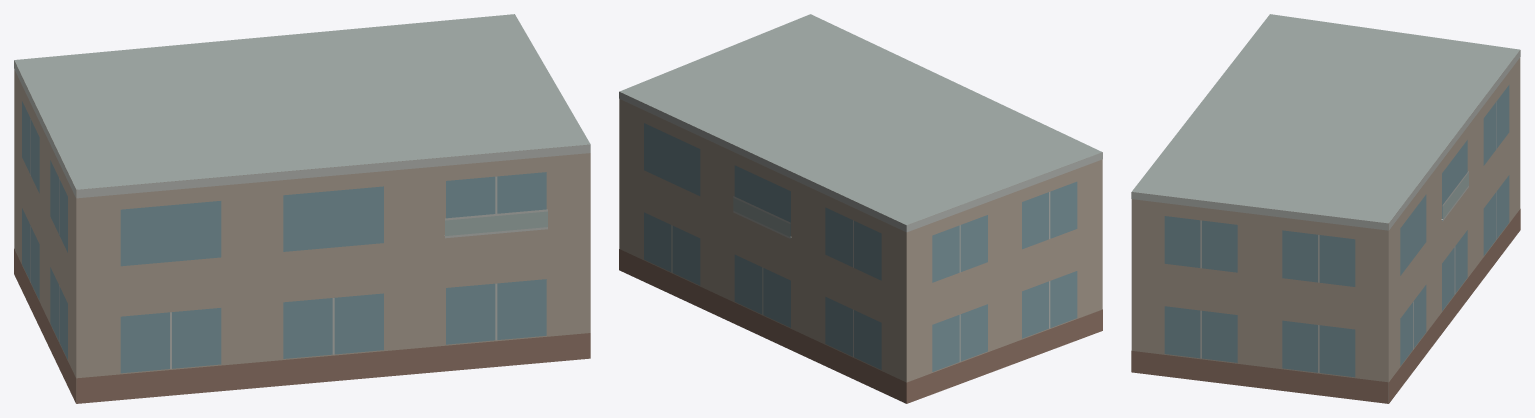
The model's file is survey-upis-32604795.glb.
The picture shows the model from 3 angles, left to right: view 1: azimuth 30°, elevation 25°; view 2: azimuth 150°, elevation 25°; view 3: azimuth 270°, elevation 25°; orthographic projection. The views are drawn at different scales.
Visible parts, largest first — view 1: survey-upis-32604795.tmp; view 2: survey-upis-32604795.tmp; view 3: survey-upis-32604795.tmp.
Boxes of the visible parts, bbox=[...] form: survey-upis-32604795.tmp: bbox=[14, 14, 590, 403]; survey-upis-32604795.tmp: bbox=[619, 14, 1102, 403]; survey-upis-32604795.tmp: bbox=[1131, 14, 1520, 403].
Size of the model in its own units: 15.19 by 6.1 by 11.93.
